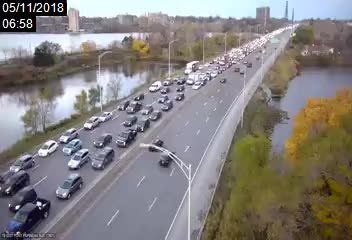congestion: (5, 119, 134, 230), (82, 80, 181, 133), (153, 58, 227, 90), (203, 46, 243, 68)
personal_car: (5, 203, 53, 234), (56, 173, 84, 199), (2, 170, 30, 195), (11, 186, 38, 208), (92, 147, 114, 170), (10, 155, 35, 173), (68, 148, 89, 168), (39, 139, 57, 158), (158, 150, 176, 168), (117, 129, 134, 148), (61, 127, 78, 144), (93, 132, 112, 146), (148, 136, 164, 152), (64, 139, 81, 154), (135, 117, 151, 132), (85, 116, 99, 131), (126, 101, 143, 113), (122, 114, 138, 126), (141, 102, 154, 115), (148, 109, 163, 120), (99, 110, 111, 123), (184, 73, 197, 84), (150, 79, 161, 92), (162, 99, 173, 111), (116, 100, 129, 110), (176, 75, 186, 84), (163, 76, 173, 85), (174, 92, 184, 101), (134, 92, 145, 100), (192, 80, 201, 89), (175, 84, 184, 92), (160, 86, 170, 93), (219, 76, 227, 84), (158, 95, 167, 102), (173, 74, 181, 81), (210, 70, 217, 77), (206, 68, 212, 75), (199, 71, 205, 78)
truck: (184, 61, 199, 75)
